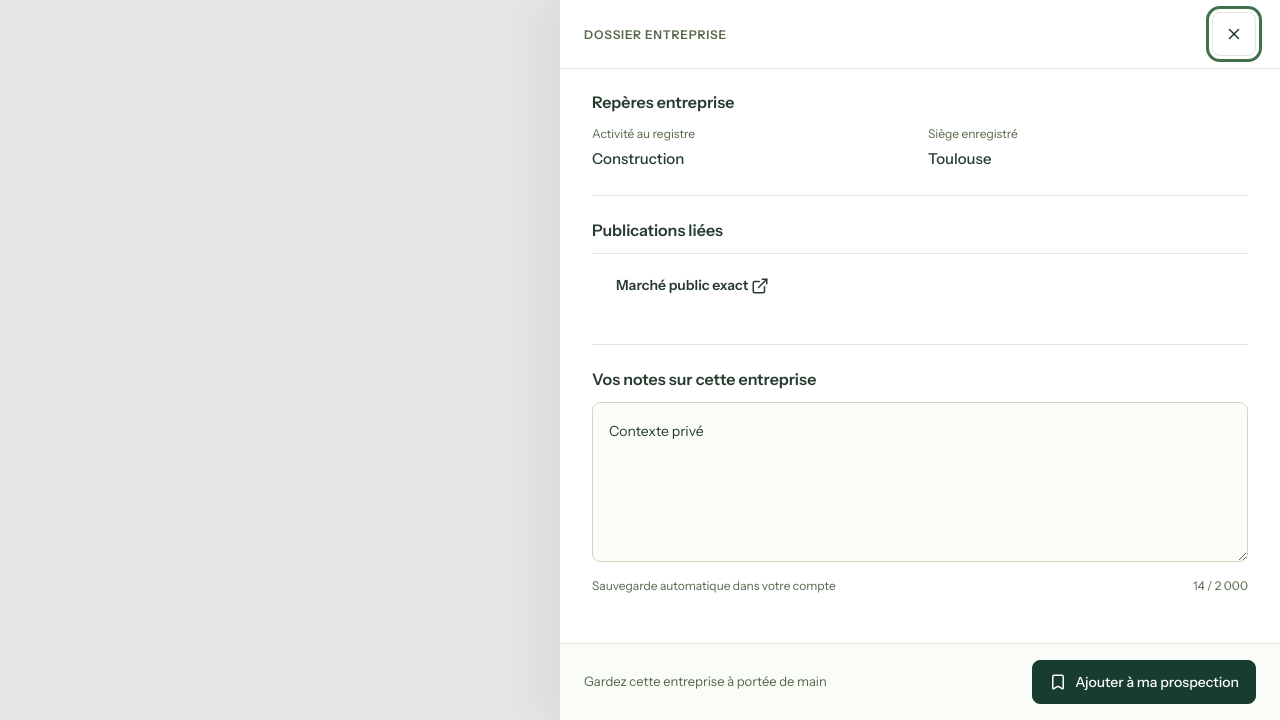
Scenario: one server-backed company dossier › persists the private note with the requested alias and revision, then follows only on click
(page scrolled)
Replace the text in the text box labelled "Vos notes sur cette entreprise" with "Prochaine étape" at (920, 482), box [592,402,1248,562]
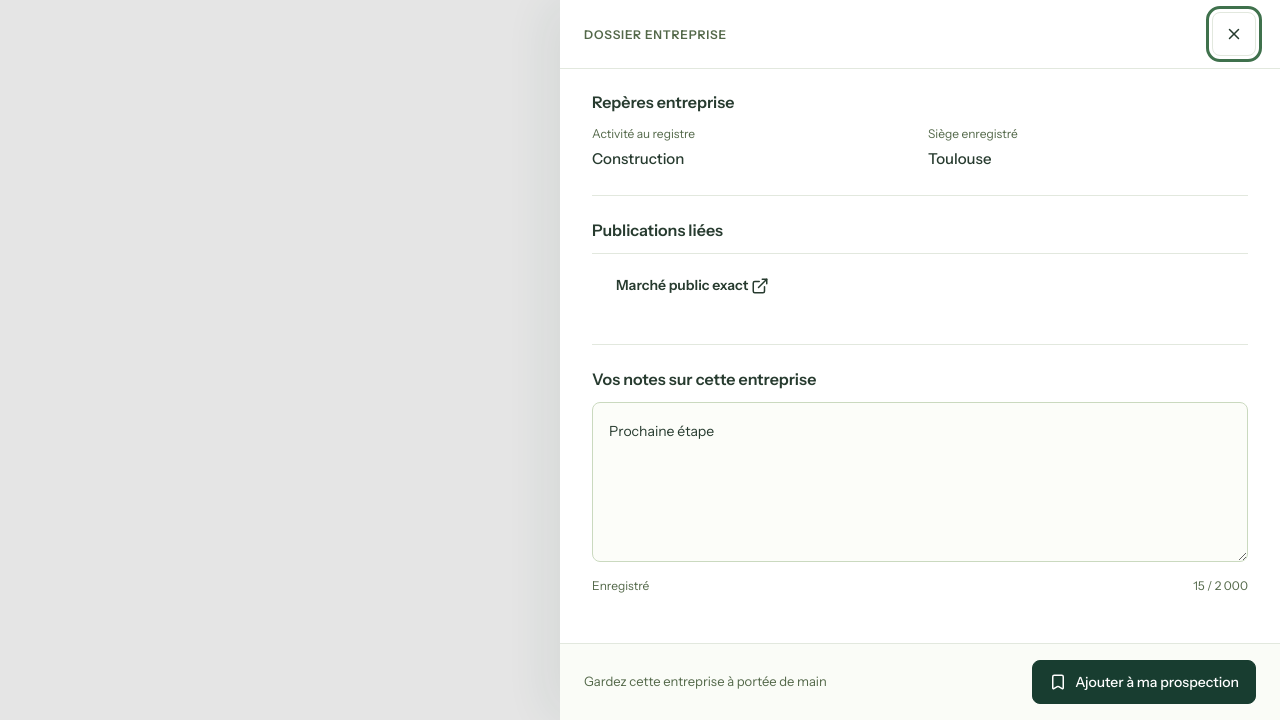
Click the button "Ajouter à ma prospection" at (1144, 682), box [1032,660,1256,704]
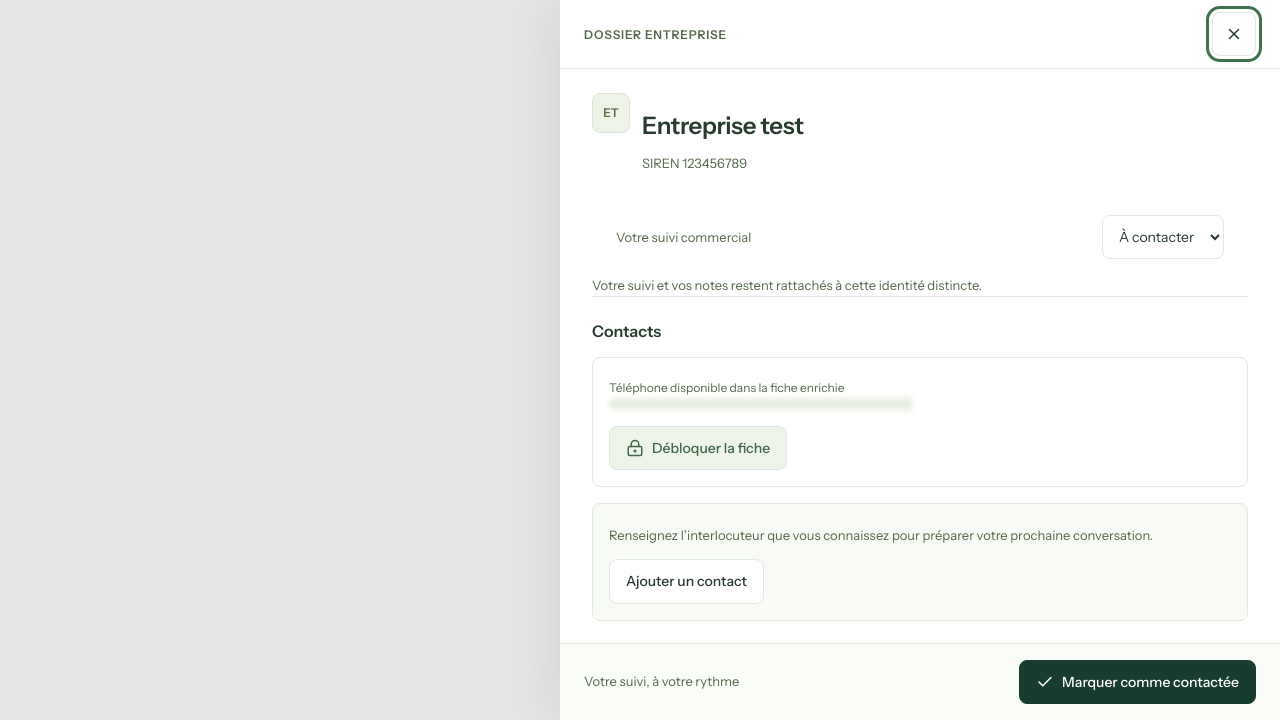
Check: the button "Marquer comme contactée" is shown, box [1019,660,1256,704]
